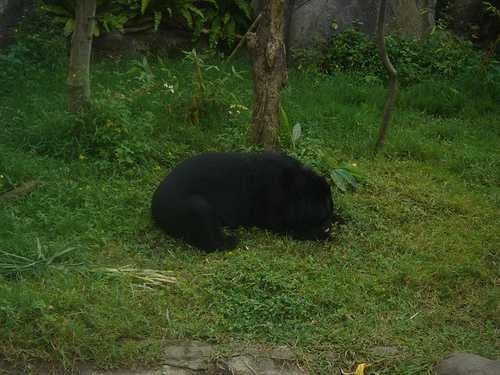bear: (227, 131, 356, 259)
